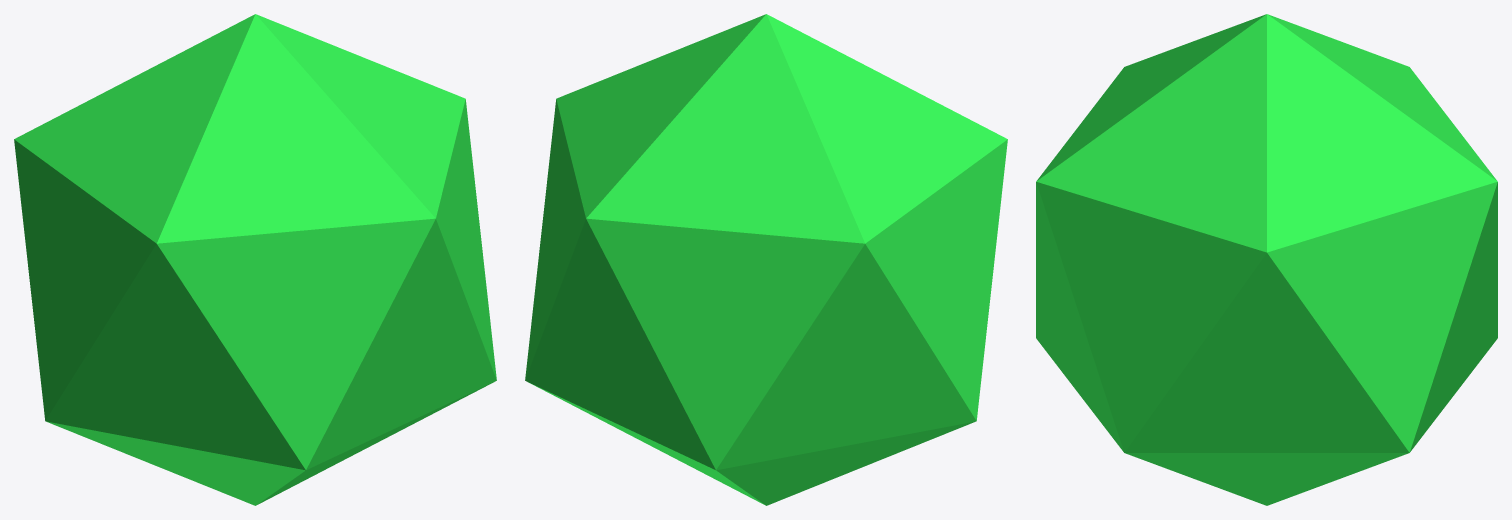
File: laser_turret_orb.obj
3 views of the same model, side by side, from view 1: azimuth 30°, elevation 25°; view 2: azimuth 150°, elevation 25°; view 3: azimuth 270°, elevation 25° (orthographic).
Visible parts, largest first — view 1: outer_Icosphere.001; view 2: outer_Icosphere.001; view 3: outer_Icosphere.001.
Part boxes in pixels (box(x1,y1,x2,y2)): outer_Icosphere.001: box(14, 14, 496, 505); outer_Icosphere.001: box(525, 14, 1007, 505); outer_Icosphere.001: box(1036, 14, 1497, 505).
Size of the model in its own units: 2.46 by 2.75 by 2.34.
